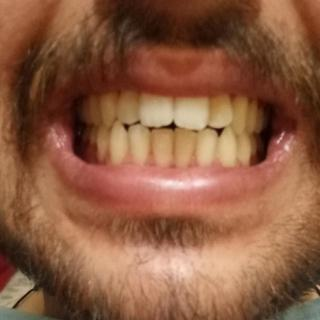maligned: (204, 87, 236, 133), (115, 88, 147, 132), (126, 123, 152, 166), (107, 120, 131, 166), (216, 128, 242, 169), (175, 126, 199, 164)
